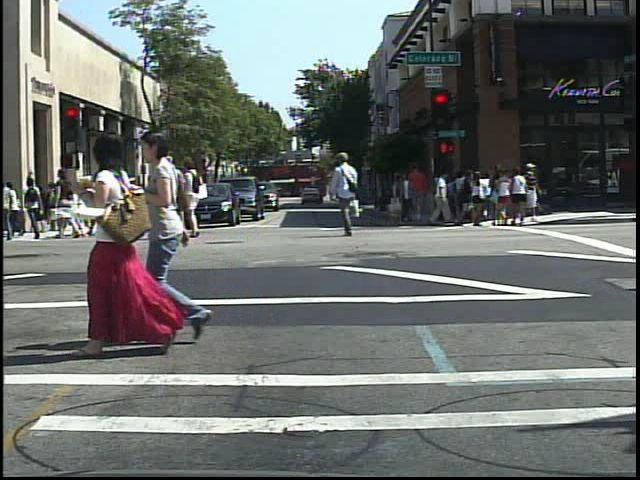person: (67, 127, 183, 360), (137, 126, 228, 341), (331, 149, 367, 242), (154, 154, 188, 242), (514, 163, 555, 229), (183, 155, 212, 245), (54, 166, 81, 243), (88, 168, 116, 242), (22, 175, 46, 244), (469, 171, 491, 232), (4, 172, 11, 246)
